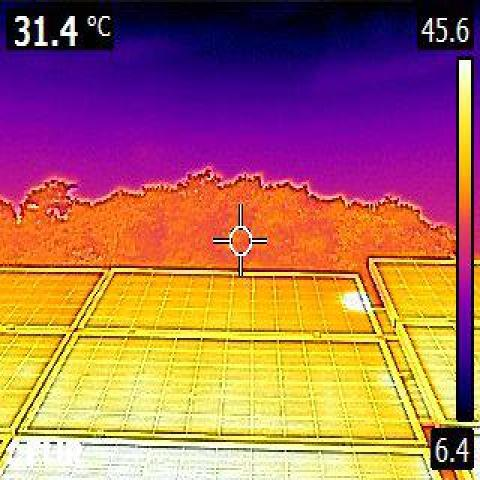fault: (9, 440, 317, 480), (342, 290, 368, 312)
